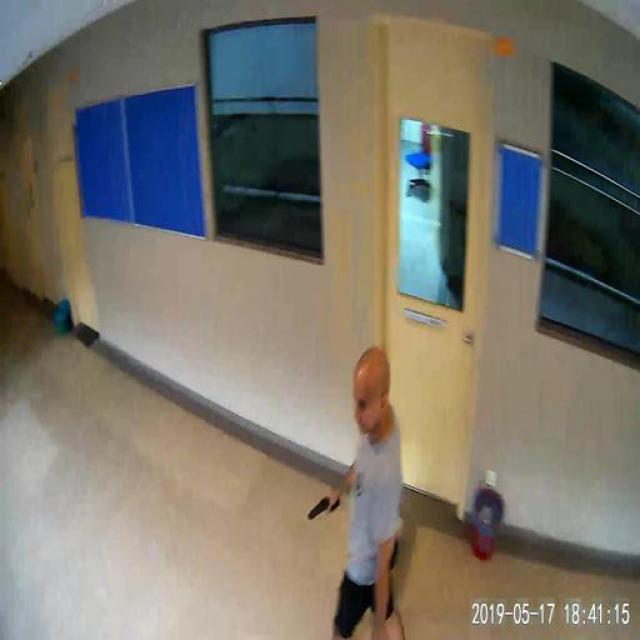Gun: (305, 488, 339, 516)
